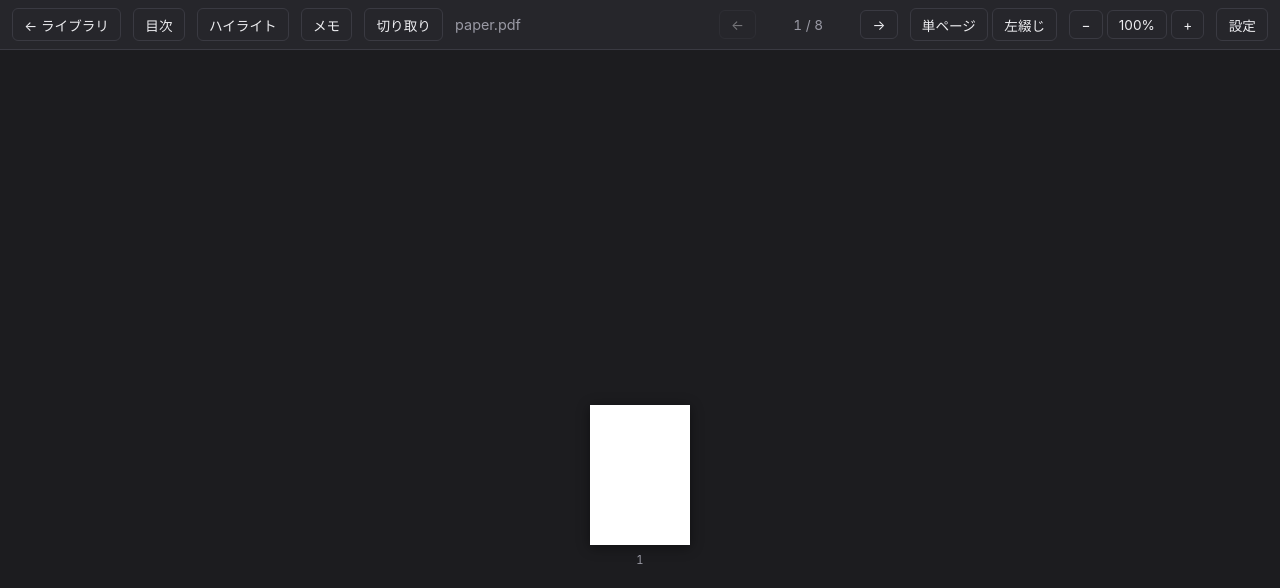
it: PdfViewer › zooms with the toolbar and resets to 100%
Click the button named "拡大": click(1188, 25) [1171, 10, 1204, 39]
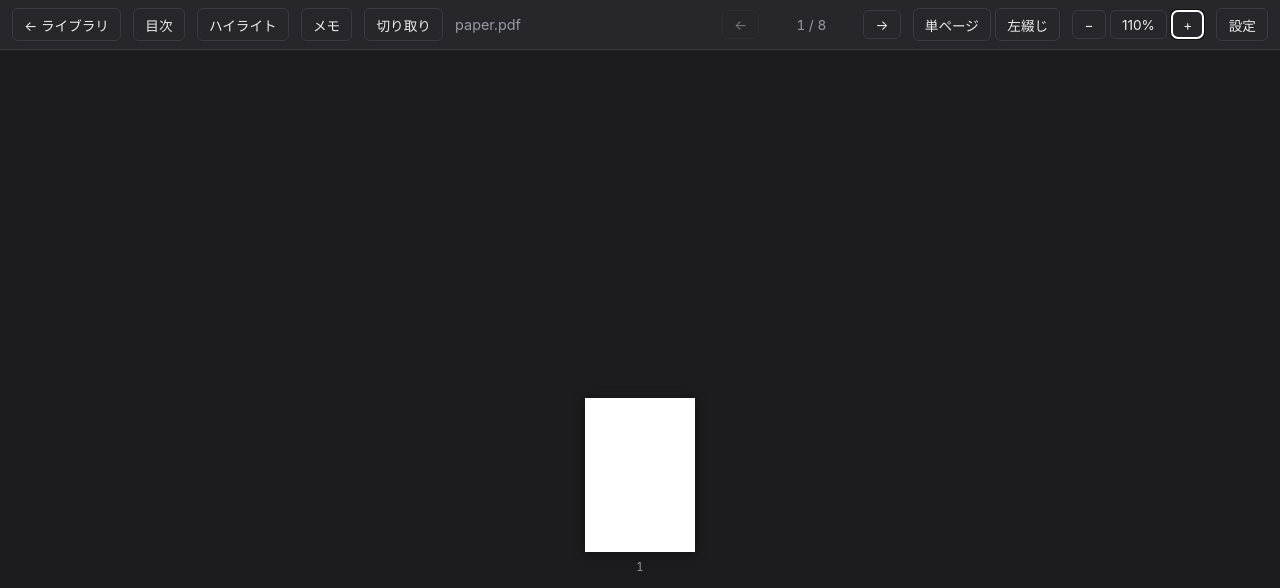
Check: the button "110%" is shown
Click the button "110%": click(1138, 25) [1110, 10, 1167, 39]
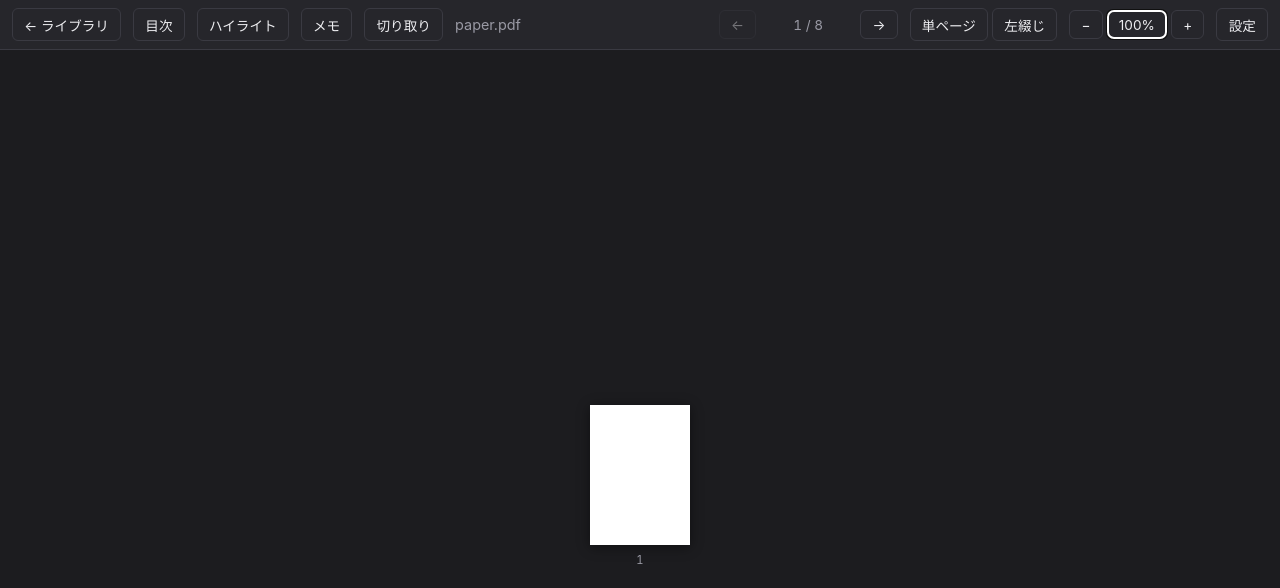
Check: the button "100%" is shown, box [1107, 10, 1167, 39]
